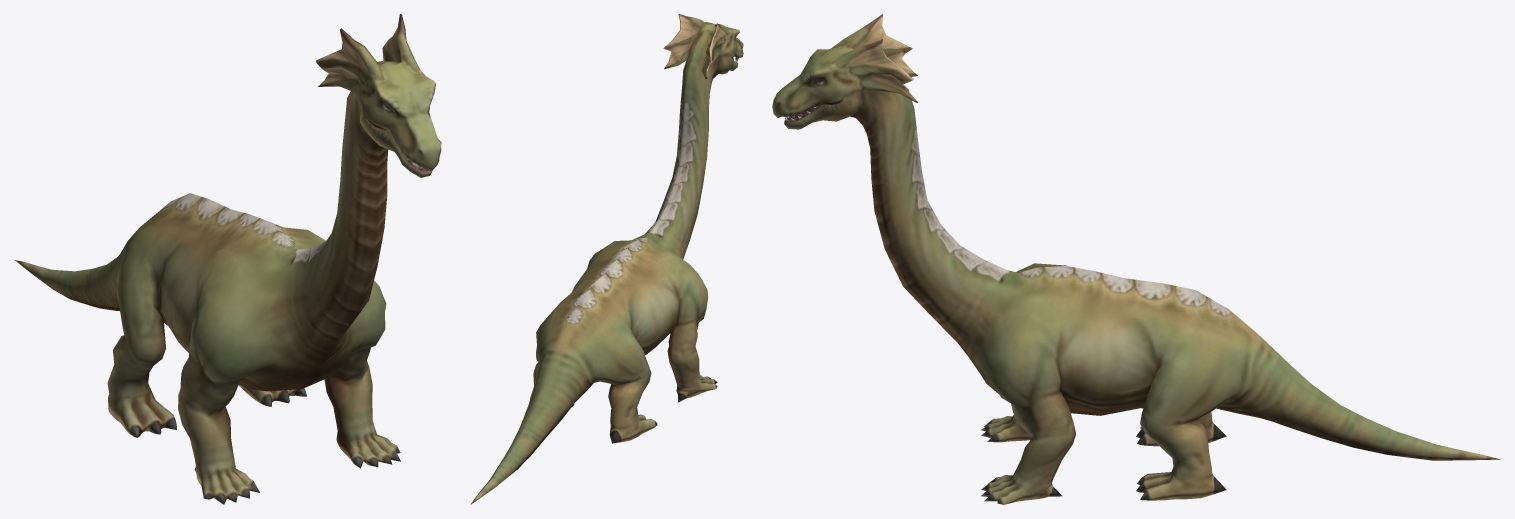
Rendered from 66-hydra.glb.
3 views of the same model, side by side, from view 1: azimuth 30°, elevation 25°; view 2: azimuth 150°, elevation 25°; view 3: azimuth 270°, elevation 25° (orthographic). The views are drawn at different scales.
Bounding box in the file's own units: 2.4 × 5.96 × 8.96.
1 material, 1 textured.
